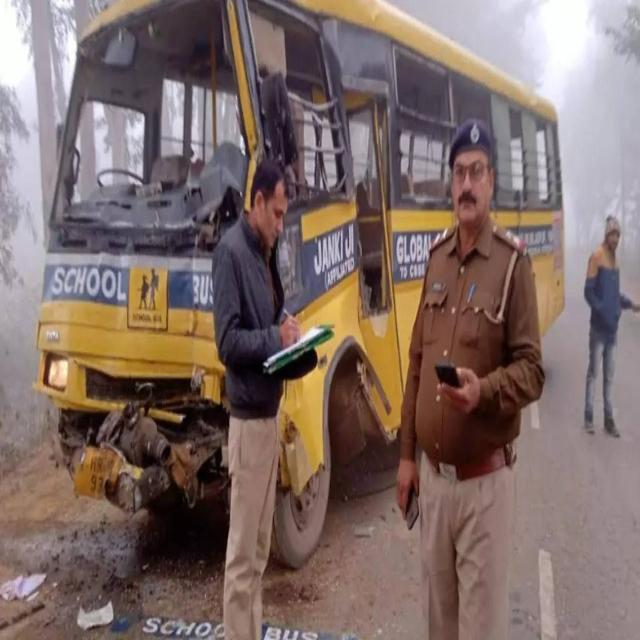accident: (36, 0, 565, 567)
